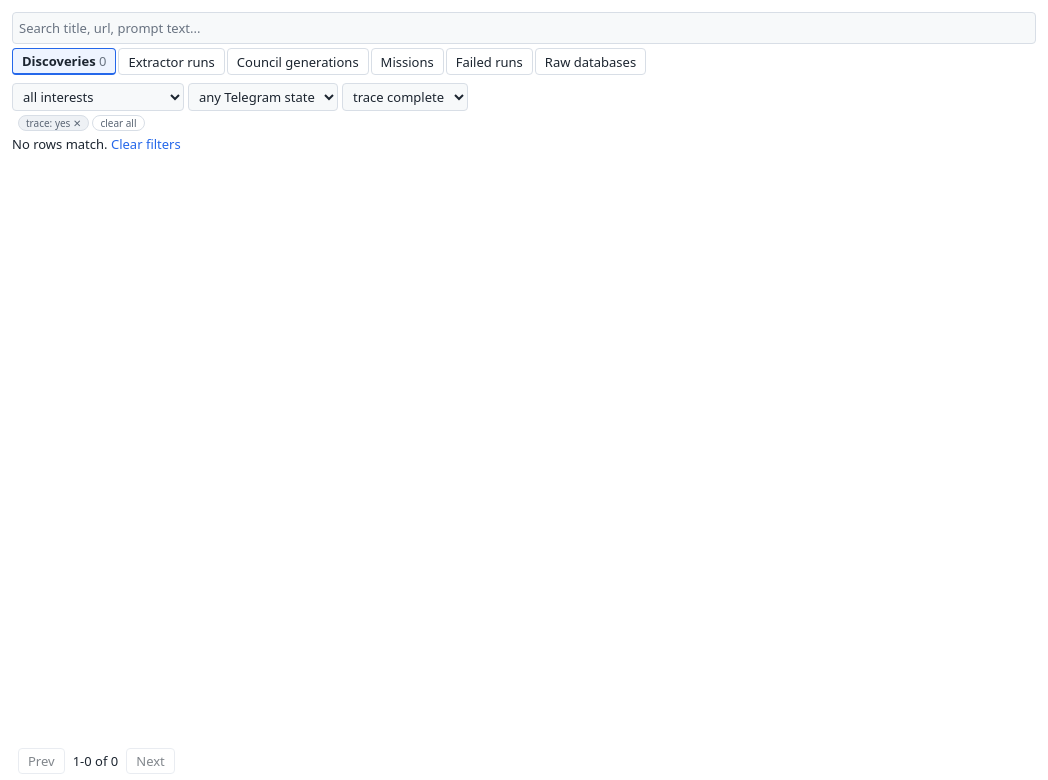
Explorer › drops the interest picker on the Extractor runs tab
What coordinates should you click on to do the following:
click the tab "Extractor runs"
I would click on:
 (172, 62)
Its box is [118,48,225,75].
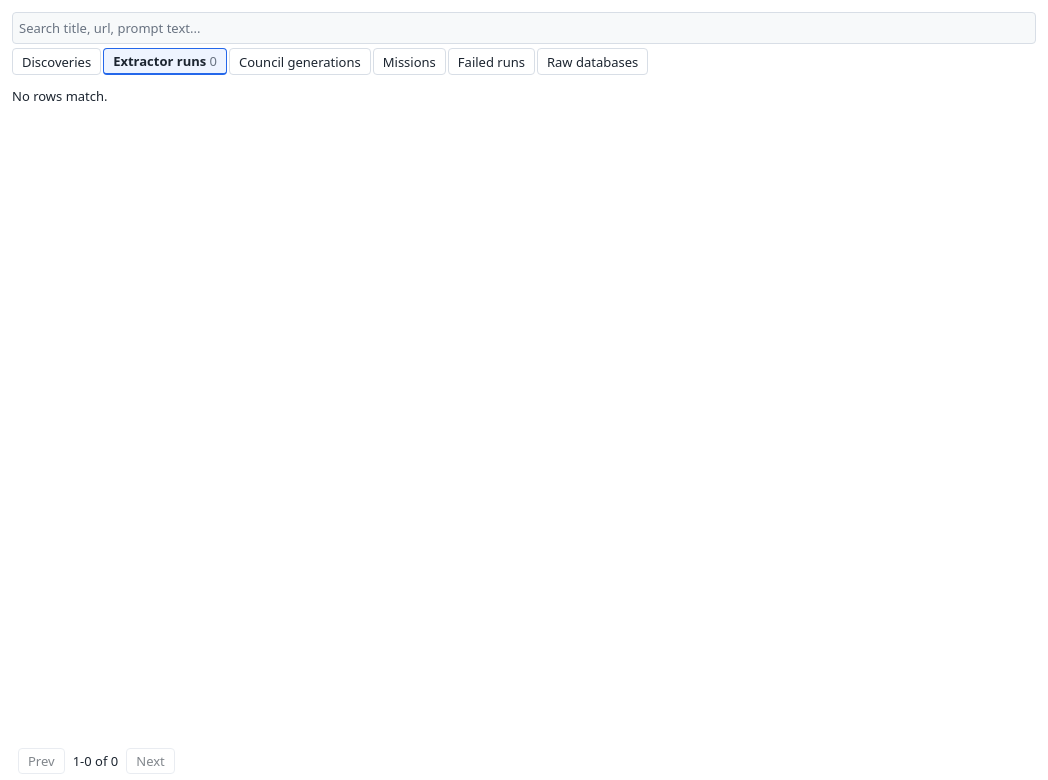
Expected: the dropdown labelled "Interest" is gone
